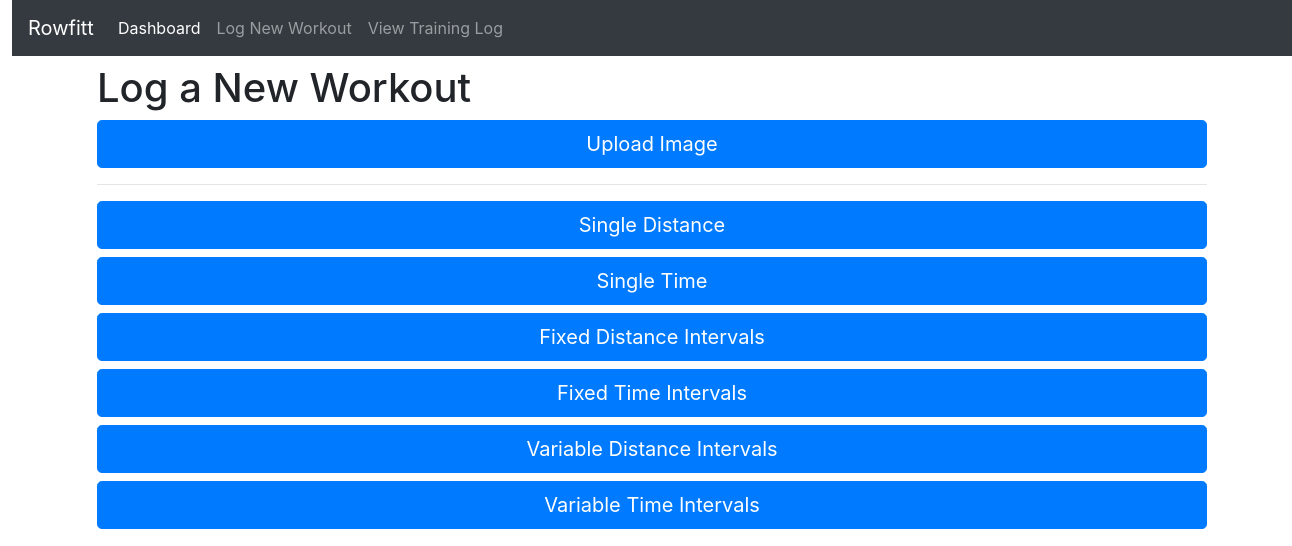
Scenario: clicking on /view-training-log link displays ViewTrainingLog page
Click the link "View Training Log" at (435,28), box [368, 18, 503, 38]
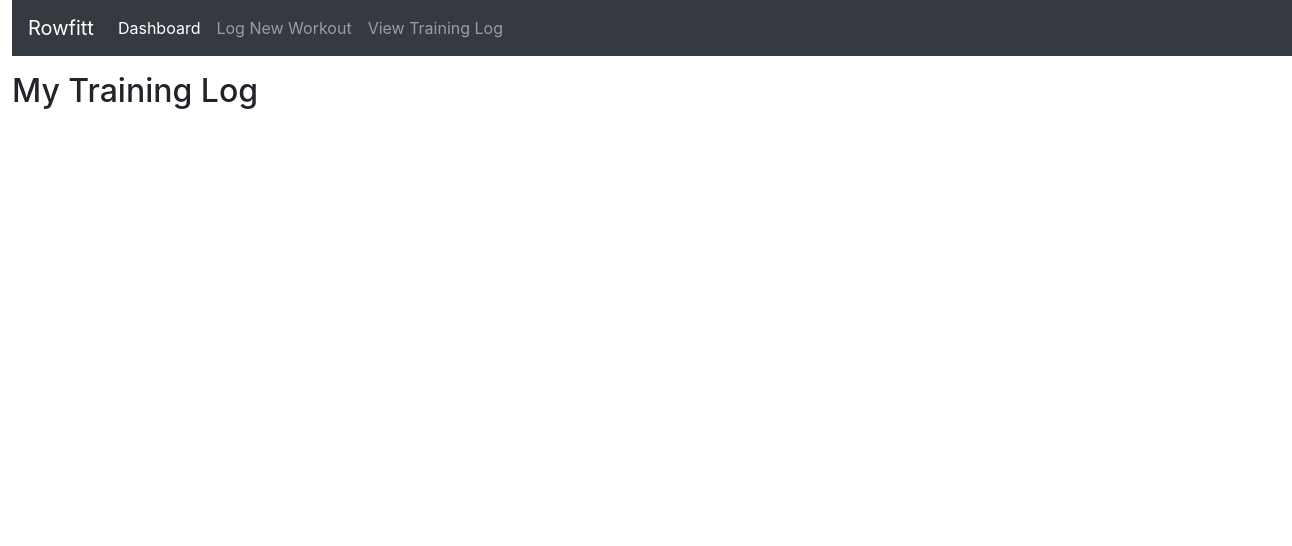
Check: the text "My Training Log" is shown, box [12, 71, 258, 110]
